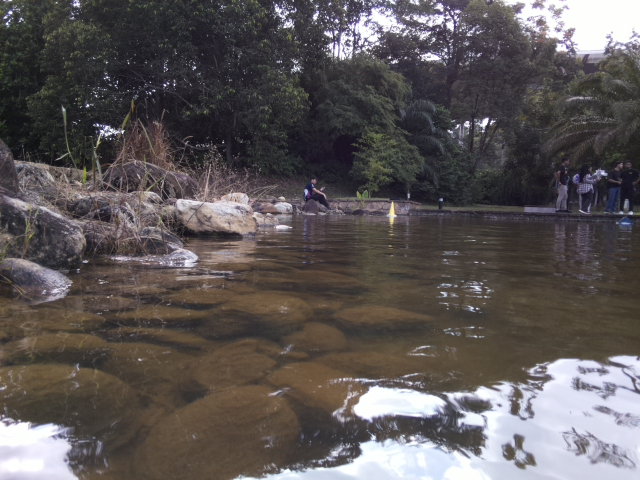checkpoint: (385, 199, 398, 218)
